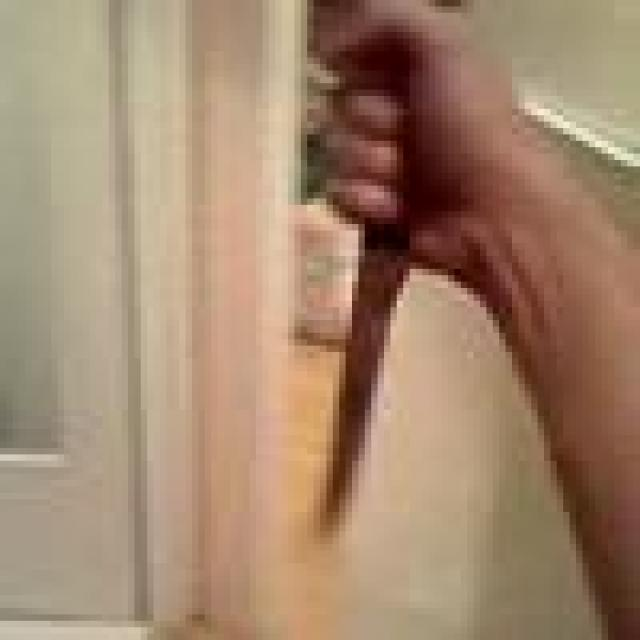knife: (322, 240, 406, 520)
